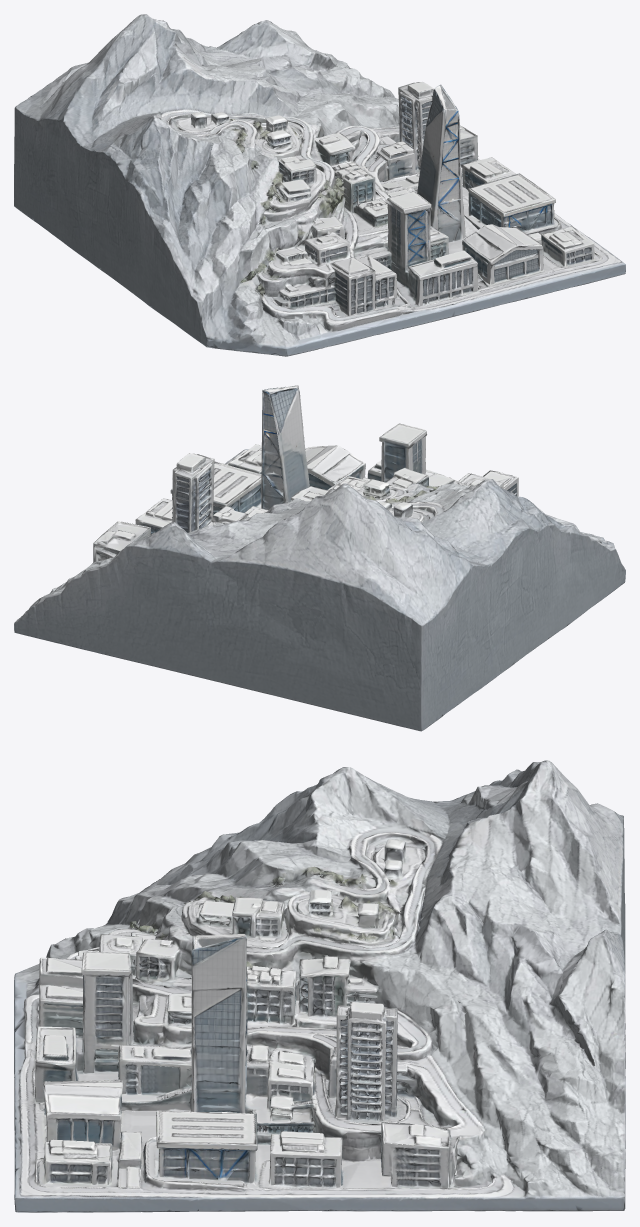
File: zagrosia-city.glb
The picture shows the model from 3 angles, top to bottom: view 1: azimuth 30°, elevation 25°; view 2: azimuth 150°, elevation 25°; view 3: azimuth 270°, elevation 25°; orthographic projection. The views are drawn at different scales.
Parts seen in each view (by area): view 1: tripo_node_6e30e872-4d7e-41b4-bb79-d5d94caf6ace; view 2: tripo_node_6e30e872-4d7e-41b4-bb79-d5d94caf6ace; view 3: tripo_node_6e30e872-4d7e-41b4-bb79-d5d94caf6ace.
Part boxes in pixels (bbox=[...]): tripo_node_6e30e872-4d7e-41b4-bb79-d5d94caf6ace: bbox=[14, 14, 625, 356]; tripo_node_6e30e872-4d7e-41b4-bb79-d5d94caf6ace: bbox=[14, 385, 625, 731]; tripo_node_6e30e872-4d7e-41b4-bb79-d5d94caf6ace: bbox=[14, 760, 625, 1212].
Size of the model in its own units: 0.9809 by 0.453 by 0.9703.
Materials: 1 (1 with a texture image).
